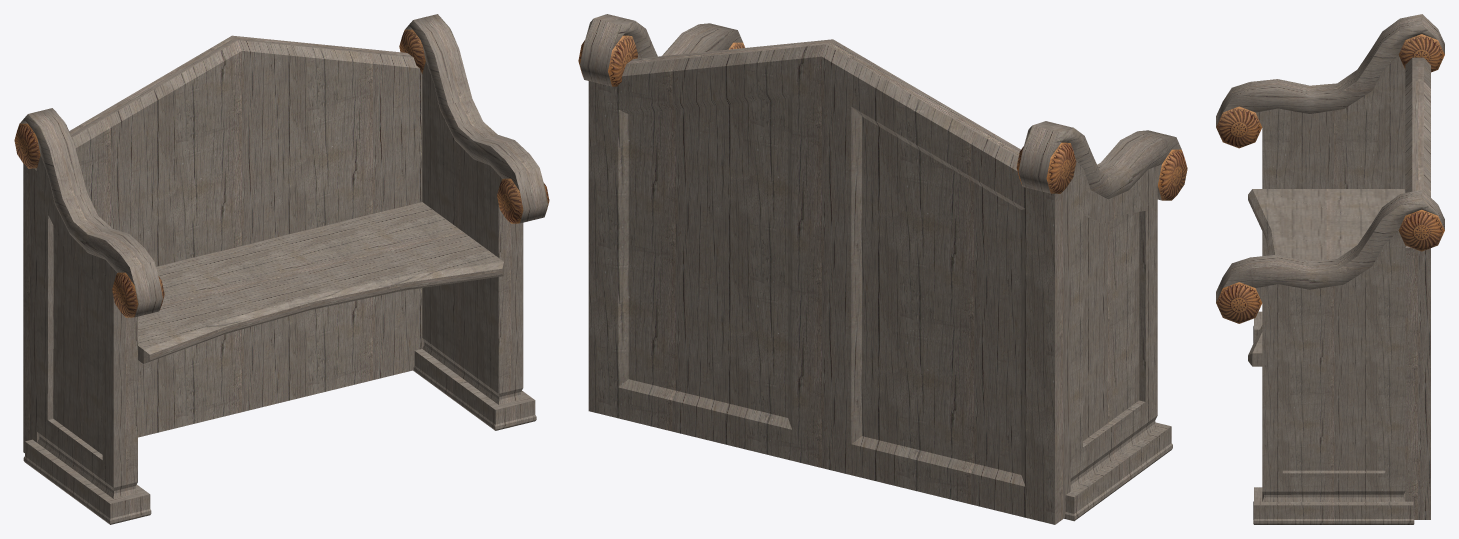
Rendered from WoodenBench.FBX.
The picture shows the model from 3 angles, left to right: view 1: azimuth 30°, elevation 25°; view 2: azimuth 150°, elevation 25°; view 3: azimuth 270°, elevation 25°; orthographic projection. The views are drawn at different scales.
Visible parts, largest first — view 1: woodBench; view 2: woodBench; view 3: woodBench.
Part boxes in pixels (box(x1,y1,x2,y2)): woodBench: box(14, 14, 549, 524); woodBench: box(578, 14, 1187, 524); woodBench: box(1216, 14, 1444, 524).
Size of the model in its own units: 271 by 225 by 135.
Materials: 2 (2 with a texture image).
